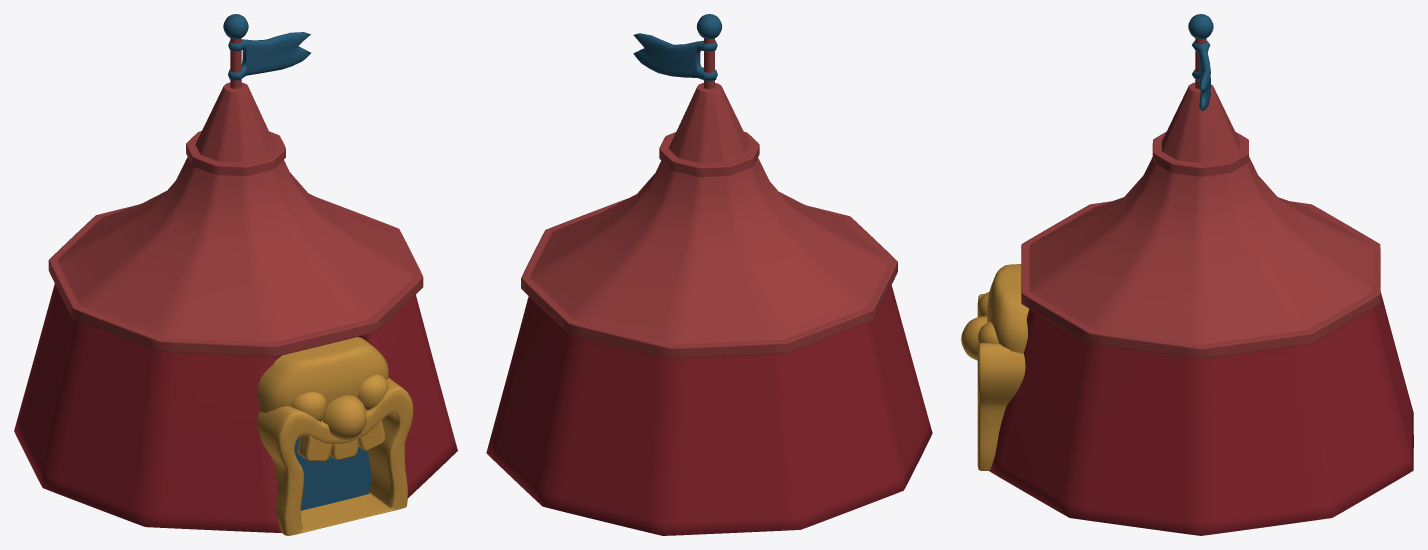
File: tent.fbx
3 renders of one model, left to right at view 1: azimuth 30°, elevation 25°; view 2: azimuth 150°, elevation 25°; view 3: azimuth 270°, elevation 25°, orthographic.
Parts seen in each view (by area): view 1: NOSE_UV; view 2: NOSE_UV; view 3: NOSE_UV.
Boxes of the visible parts, x1,y1,x2,y2 form: NOSE_UV: (14,14,457,535); NOSE_UV: (486,14,932,535); NOSE_UV: (961,14,1413,535).
Size of the model in its own units: 0.1358 by 0.1432 by 0.1375.
